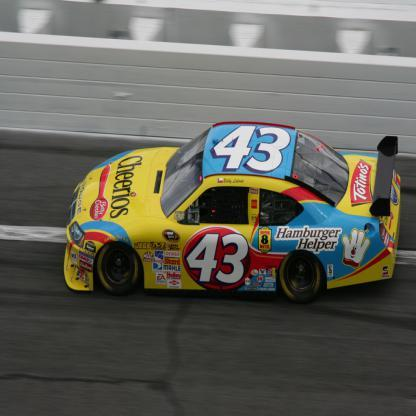car: (60, 118, 402, 300)
